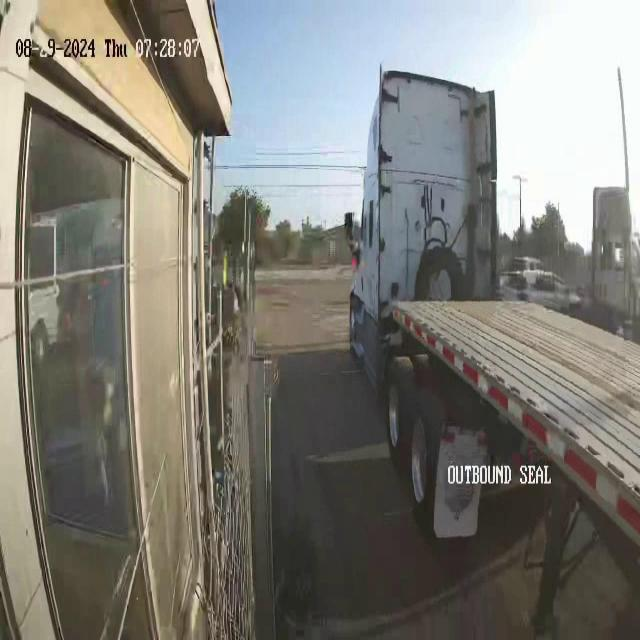TRUCK_OUT: (345, 62, 640, 618)
